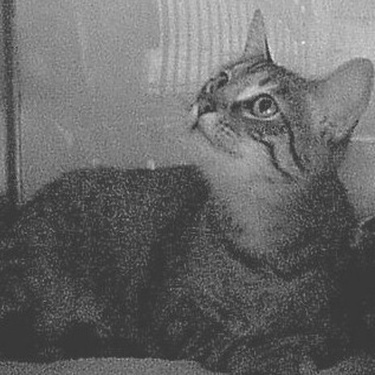cat: (1, 12, 366, 359)
